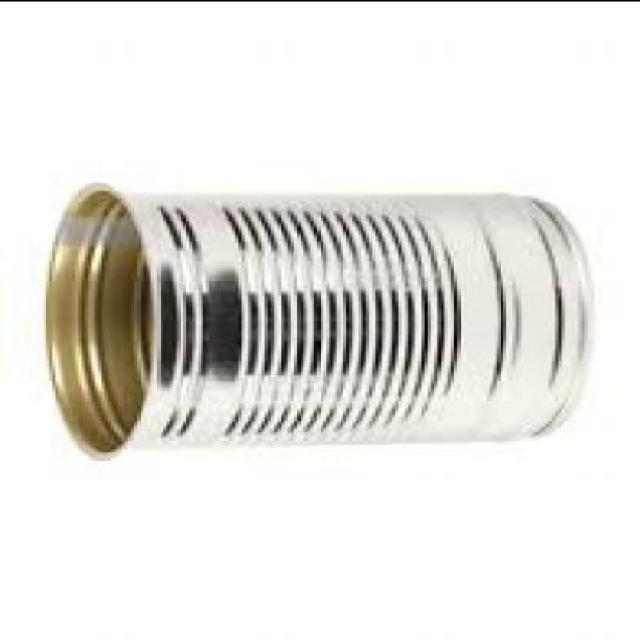METAL: (32, 176, 588, 456)
